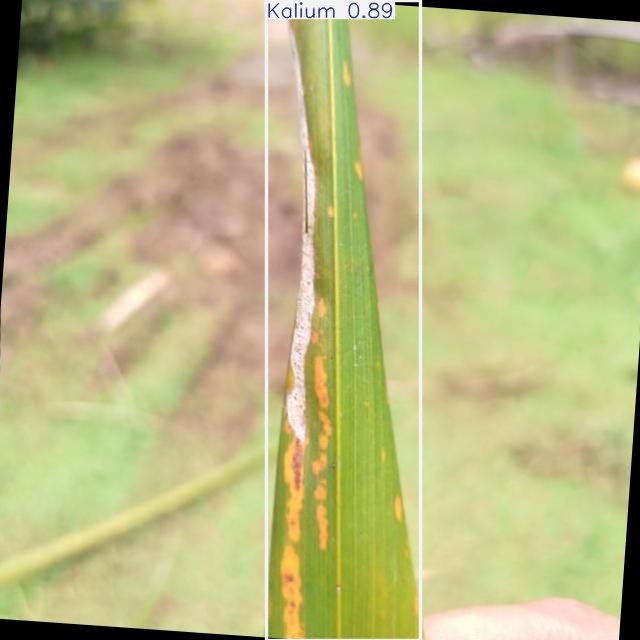Kalium: (266, 0, 420, 640)
